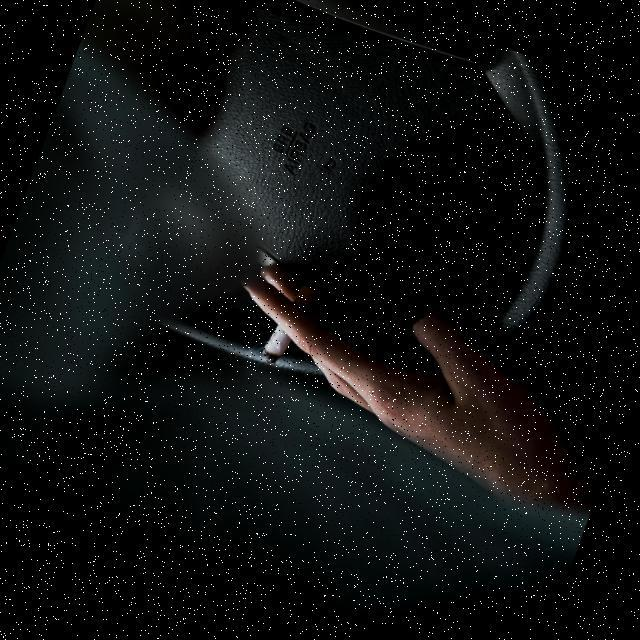cigarette: (248, 309, 300, 370)
